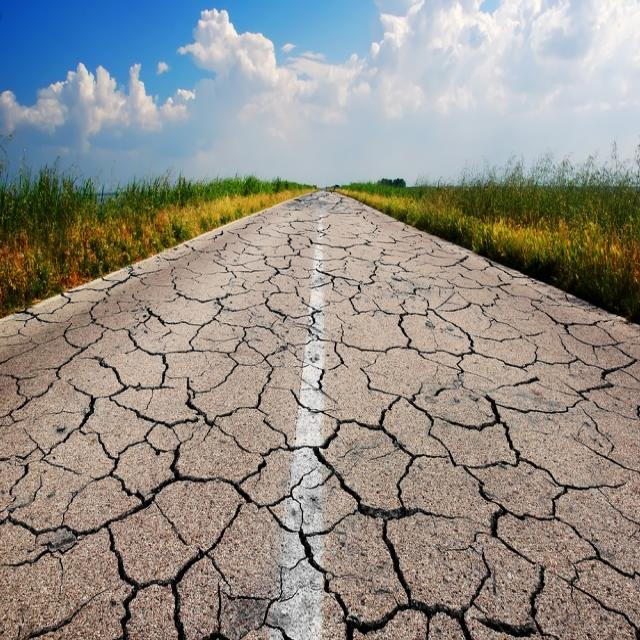Drain Hole: (94, 179, 639, 640)
